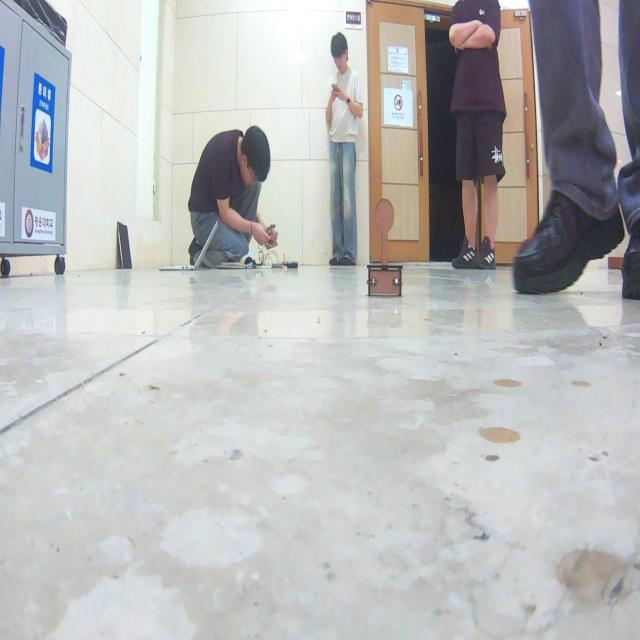target: (366, 198, 403, 297)
